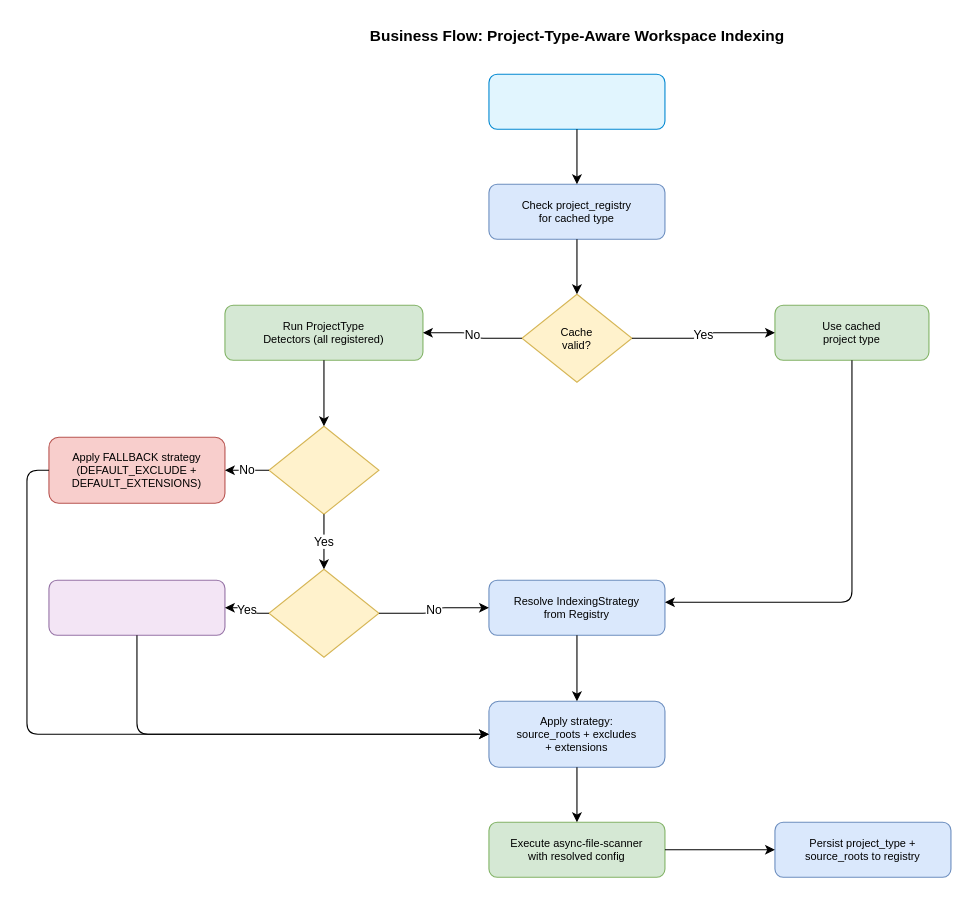
Some shapes in this 970 by 897 pixel diagram are drawn without their labels. The shapes that lost their labels are listed below. From the top down, each one's box as (x1, y1, x2, y2) in pixels, then its label:
(488, 73, 665, 129): Developer triggers workspace indexing
(268, 425, 379, 514): Confidence >= 0.5?
(48, 579, 225, 635): Enumerate sub-projects + detect each type
(268, 568, 379, 657): Mono-repo detected?
